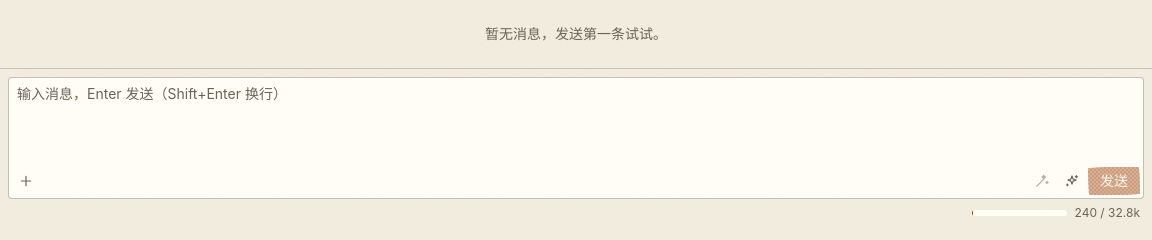
Test case: ChatView — stop & failure notices (SPEC 5.8.1-5, 5.8.3) › flags a failed turn with the error summary and a retry button (5.8.3-1c)
Expected: the text "暂无消息，发送第一条试试。" is shown, [485, 25, 667, 42]
In the text box with placeholder "输入消息，Enter 发送（Shift+Enter 换行）": (576, 138) [8, 77, 1144, 199], type "提问"
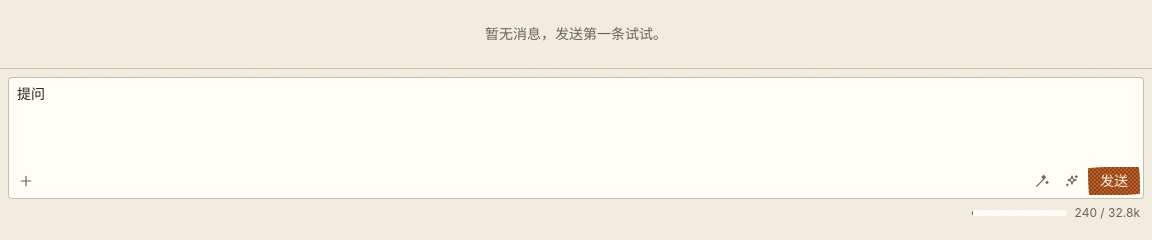
Press Enter in the text box with placeholder "输入消息，Enter 发送（Shift+Enter 换行）", box [8, 77, 1144, 199]
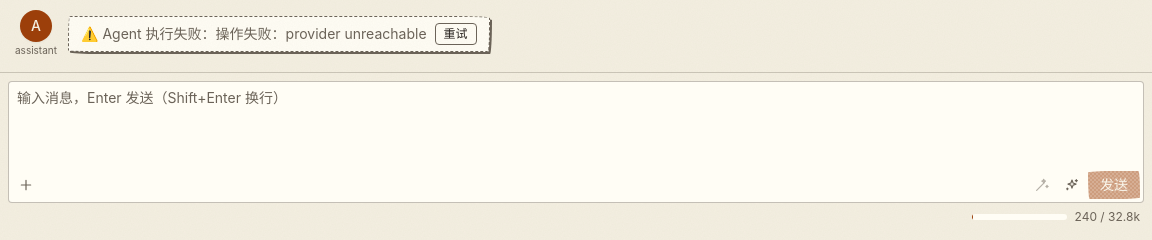
Now the text "⚠️ Agent 执行失败：操作失败：provider unreachable" is shown, box [81, 24, 426, 44]
Now the button "重试" is shown, box [434, 23, 476, 45]
